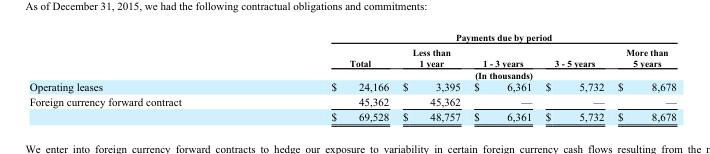table: (28, 28, 679, 122)
table column: (28, 28, 255, 122), (255, 28, 395, 122), (537, 28, 610, 122), (395, 28, 466, 122), (466, 28, 537, 122), (610, 28, 679, 122)
table column header: (28, 28, 679, 80)
table row: (28, 44, 679, 68), (28, 28, 679, 44), (28, 93, 679, 108), (28, 108, 679, 122), (28, 80, 679, 93), (28, 68, 679, 80)
table spanning cell: (255, 28, 679, 44), (255, 68, 679, 80)
